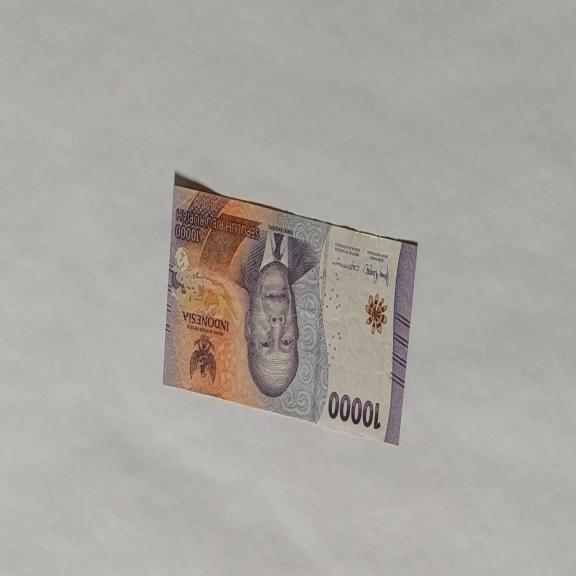Kertas: (162, 174, 418, 446)
